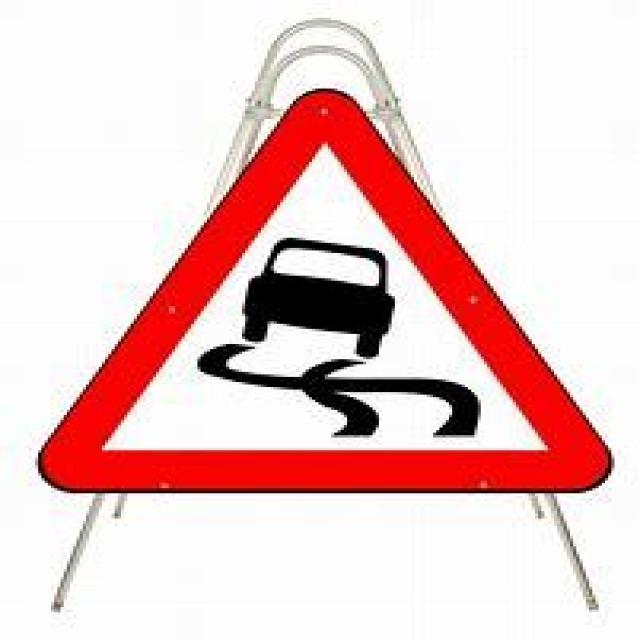slippery road: (41, 85, 611, 501)
